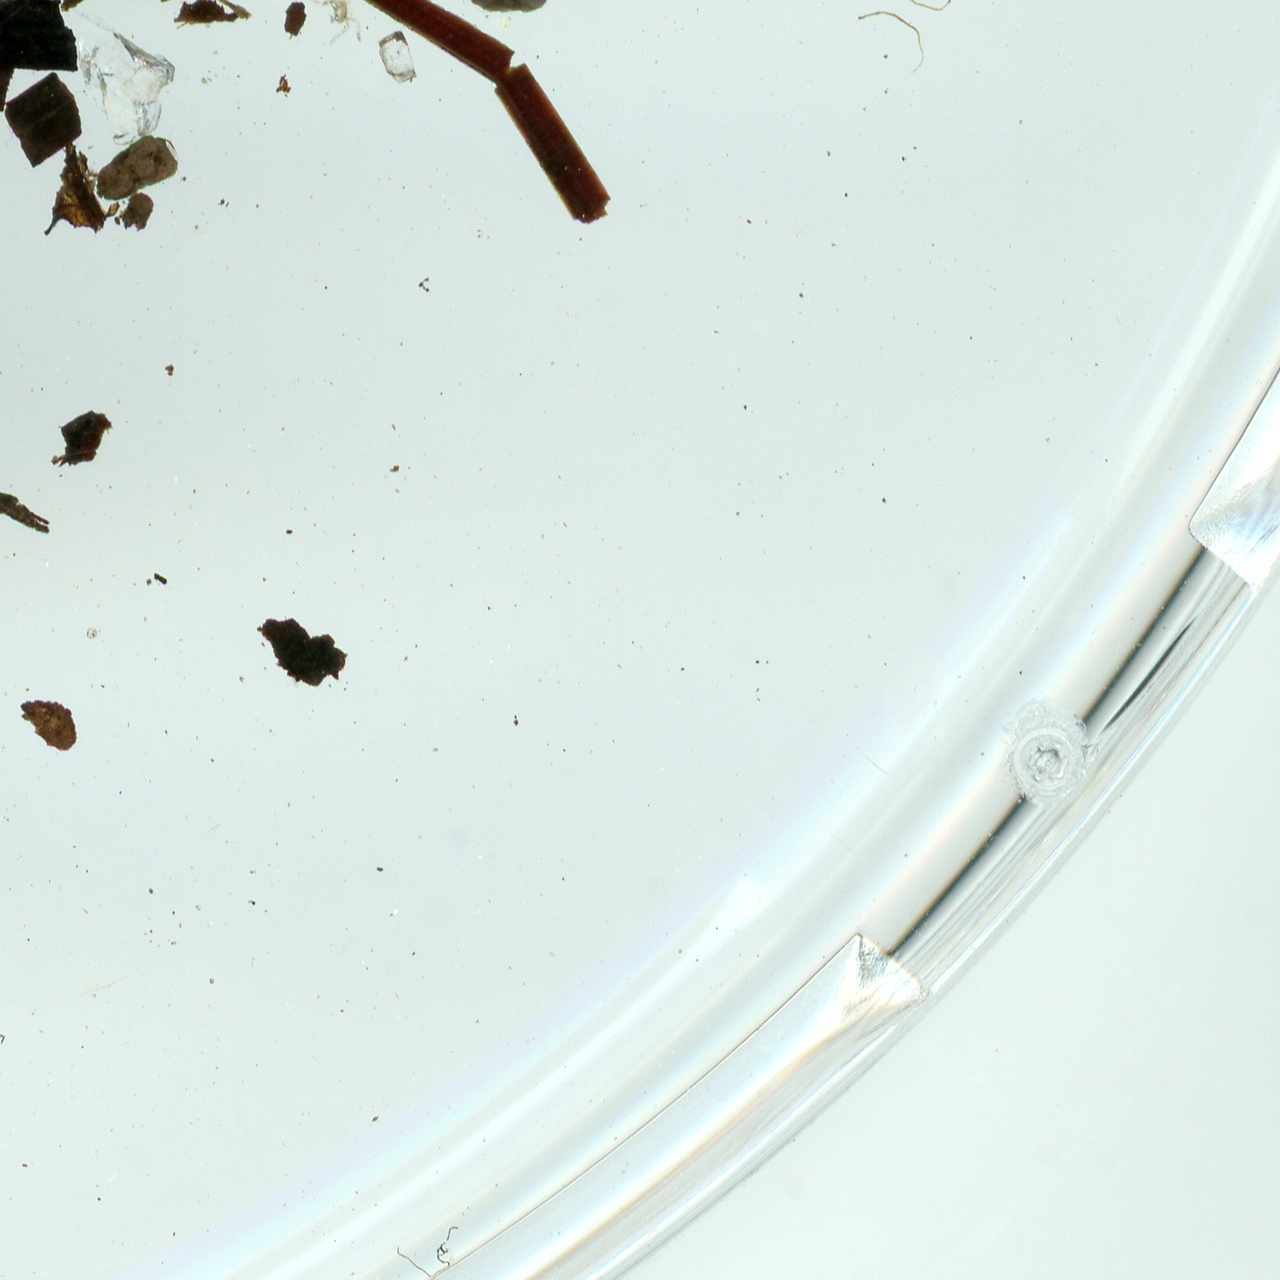arthropod: (237, 0, 382, 59)
